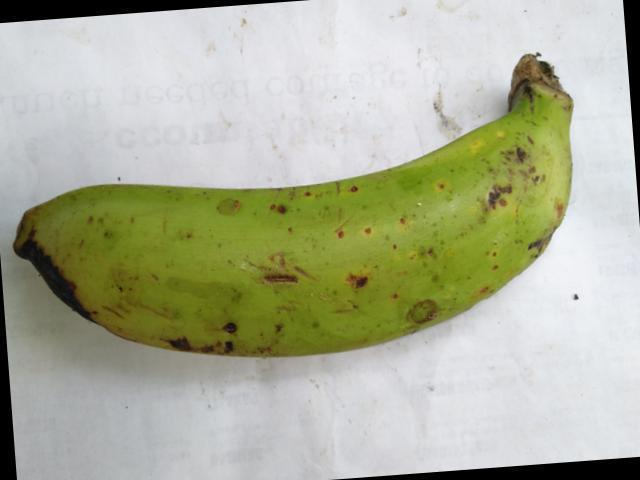unripe: (25, 50, 572, 355)
